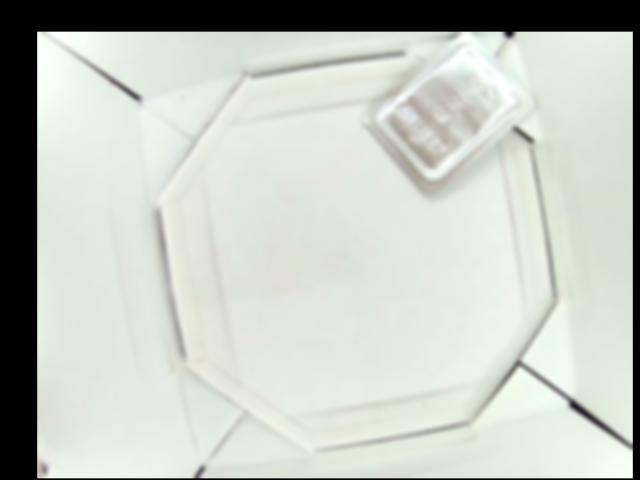Medicine: (360, 33, 538, 192)
